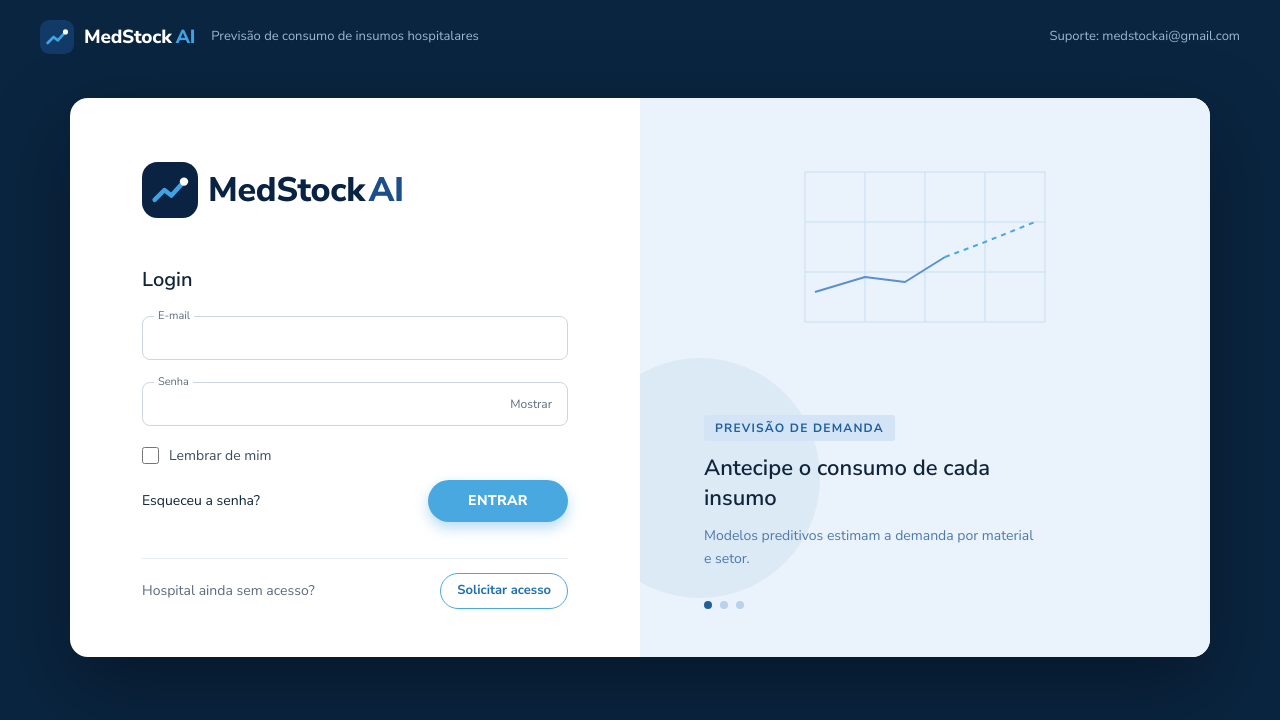
Test: Login › 'Mostrar' revela a senha e os pontos trocam o slide
Click the button "Mostrar". click: (531, 404)
box: [502,390,560,418]
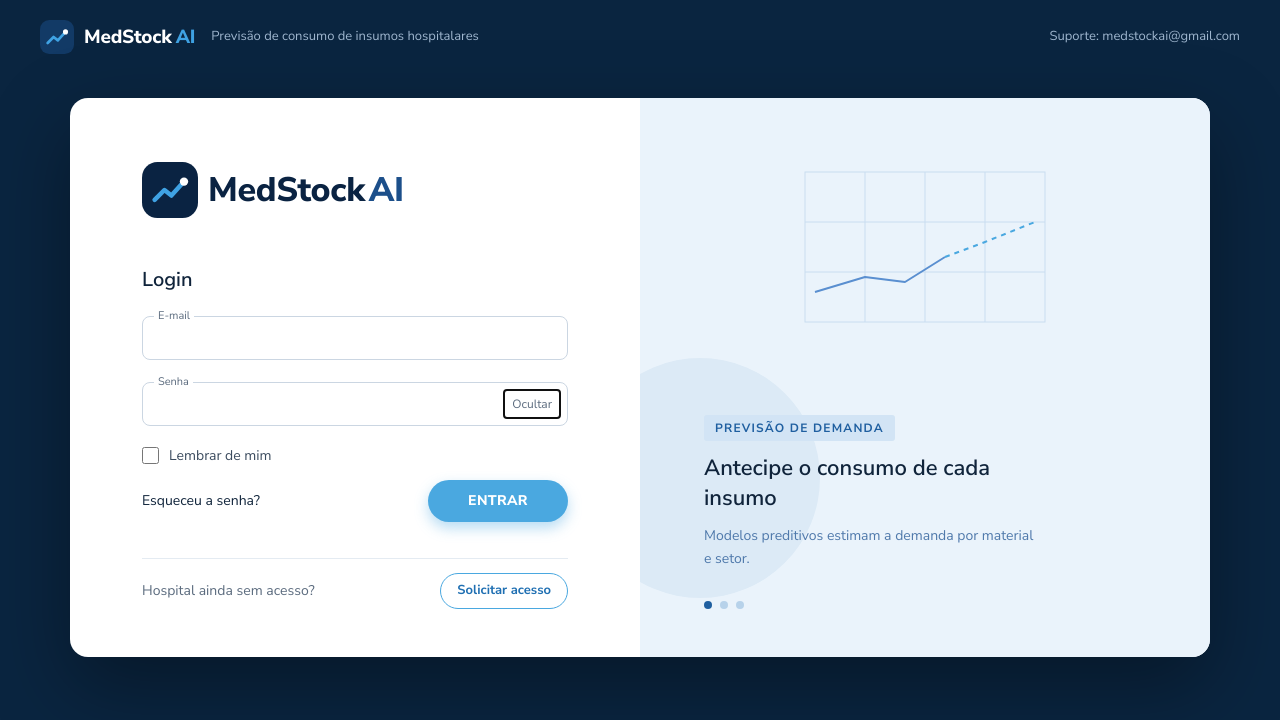
Click the button named "Slide 2". click: (724, 604)
box: [720,600,728,608]
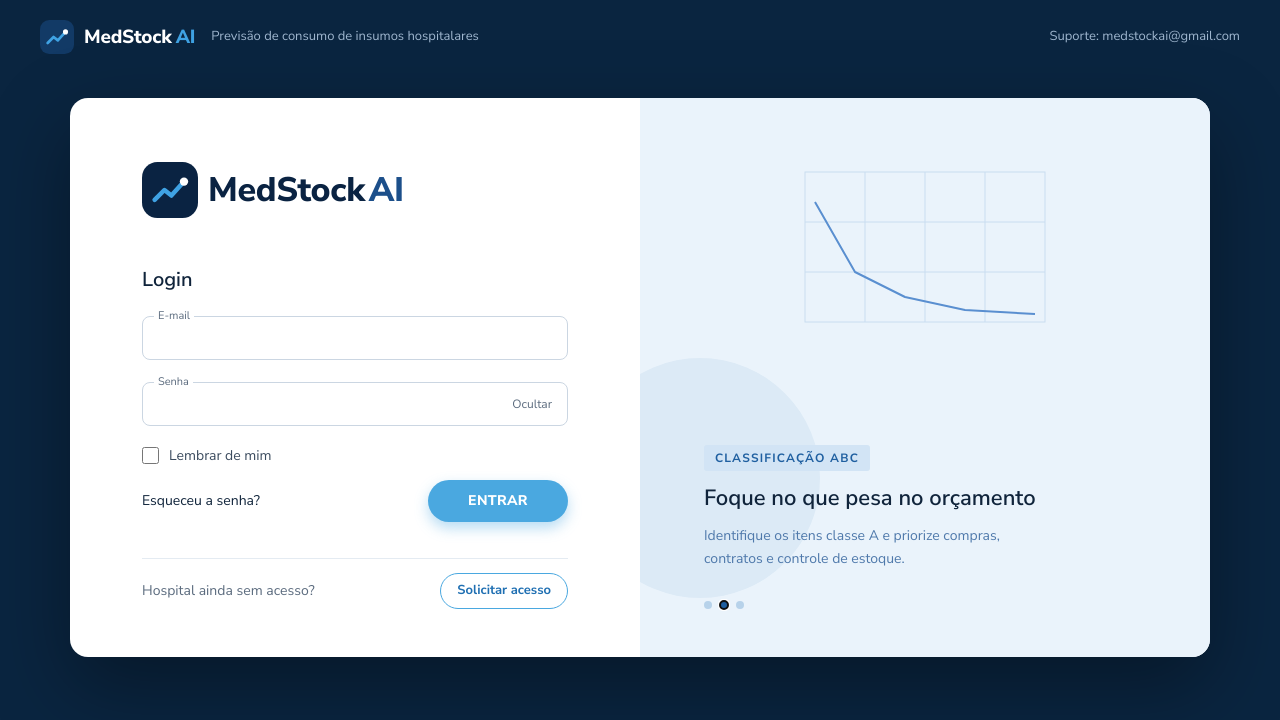
Check: the heading "Foque no que pesa no orçamento" is shown, box [704,483,1044,513]
